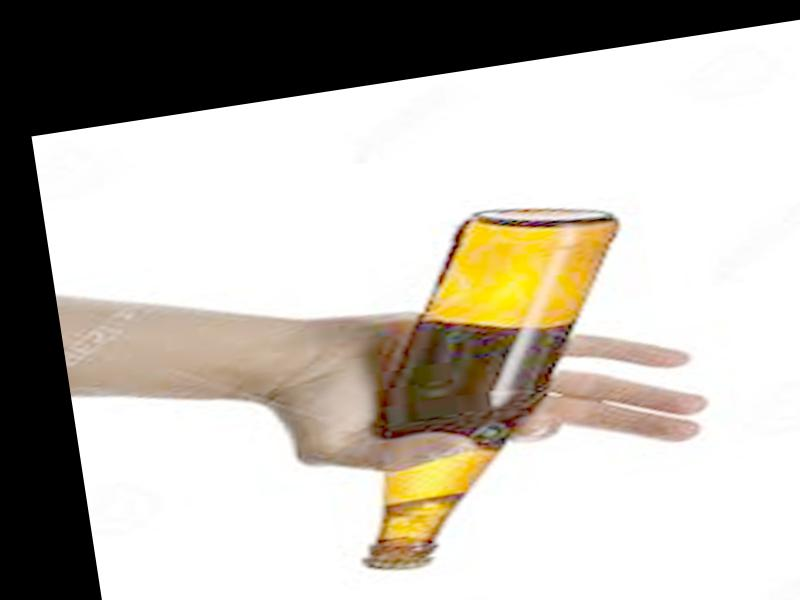Beer: (320, 194, 655, 567)
